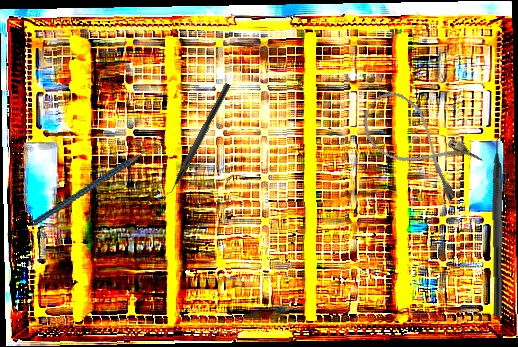Cannula: (352, 83, 484, 205)
Chopper: (19, 131, 174, 227), (158, 78, 231, 203), (489, 124, 516, 316)
